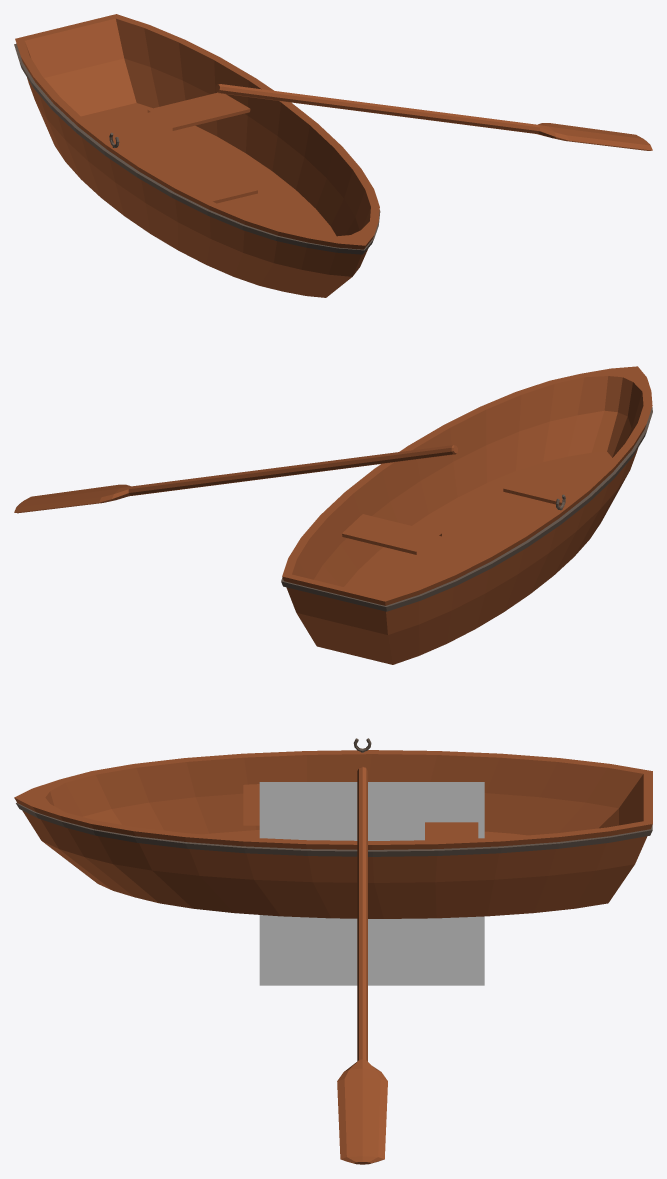
The model's file is rowing_boat.glb.
3 views of the same model, one above another, from view 1: azimuth 30°, elevation 25°; view 2: azimuth 150°, elevation 25°; view 3: azimuth 270°, elevation 25° (orthographic). The views are drawn at different scales.
Visible parts, largest first — view 1: Circle, Cylinder.002, Cube, Cube.001; view 2: Circle, Cylinder.002, Cube, Cube.001; view 3: Circle, Plane, Cylinder.002, Cube, Cube.001.
Boxes of the visible parts, box(x1,y1,x2,y2) form: Circle: box(14, 14, 380, 297); Cylinder.002: box(215, 84, 652, 150); Cube: box(147, 92, 250, 130); Cube.001: box(180, 172, 257, 203); Circle: box(281, 366, 652, 664); Cylinder.002: box(14, 445, 457, 513); Cube: box(342, 514, 441, 554); Cube.001: box(503, 470, 585, 505); Circle: box(14, 750, 652, 918); Plane: box(259, 782, 484, 985); Cylinder.002: box(337, 766, 387, 1164); Cube: box(425, 822, 478, 840); Cube.001: box(243, 784, 259, 825).
Bounding box in the file's own units: 5.9 × 2.24 × 5.68.
